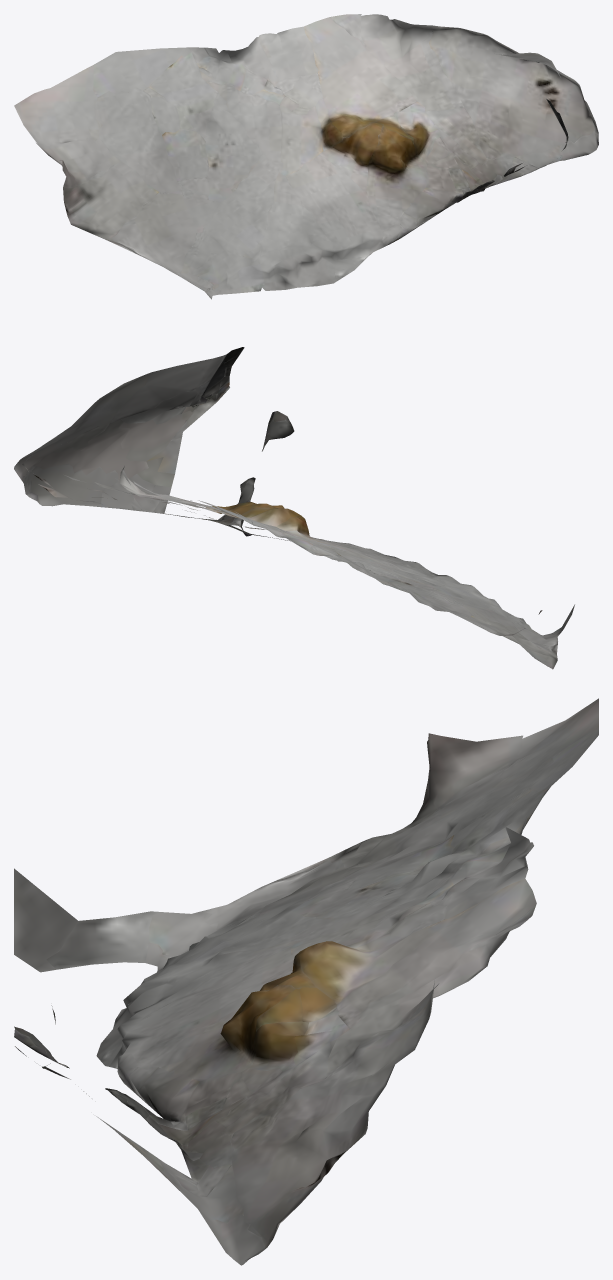
File: hall.glb
3 views of the same model, one above another, from view 1: azimuth 30°, elevation 25°; view 2: azimuth 150°, elevation 25°; view 3: azimuth 270°, elevation 25° (orthographic). The views are drawn at different scales.
Size of the model in its own units: 1.02 by 0.2903 by 0.6003.
Materials: 1 (1 with a texture image).
